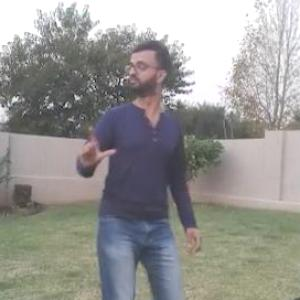land_hand: (68, 125, 116, 174)
